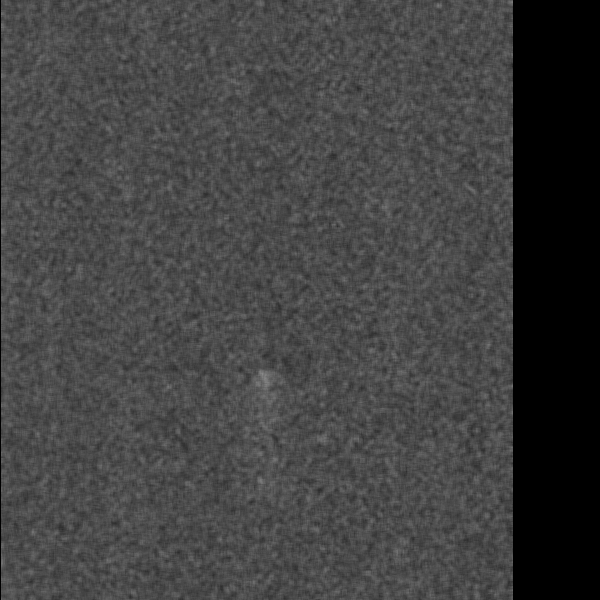spark: (241, 363, 278, 446)
